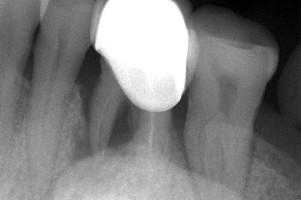Dental Caries: (69, 73, 140, 165)
